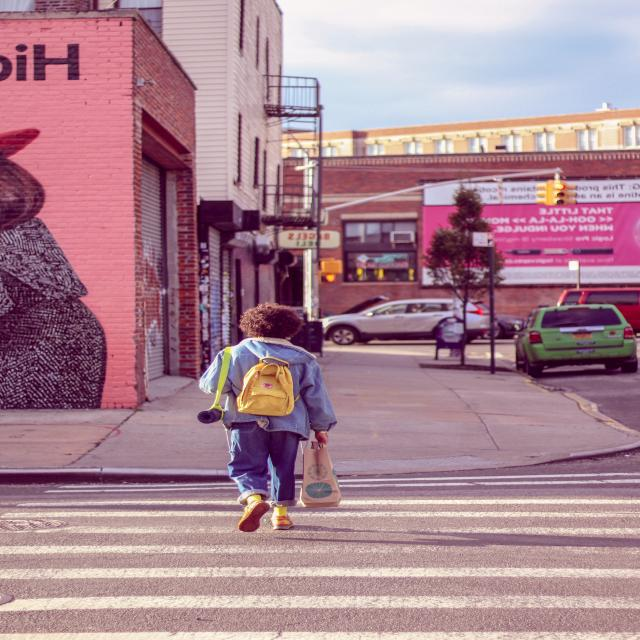adult: (196, 303, 336, 535)
